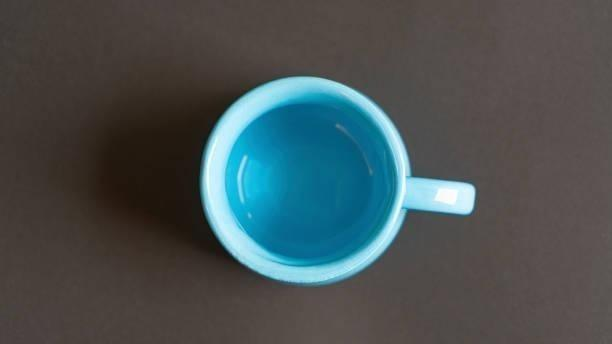cup-handle: (196, 74, 478, 289)
